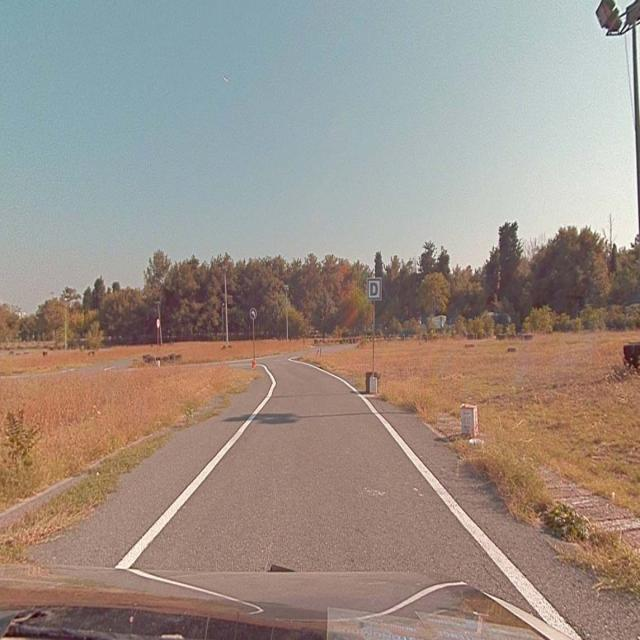durak: (368, 278, 382, 300)
sol: (250, 309, 256, 319)
